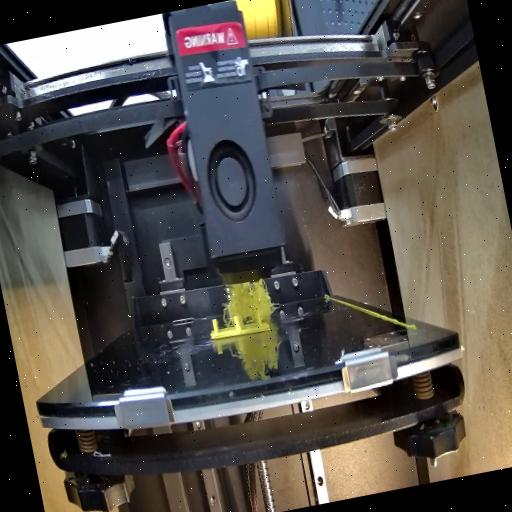spaghetti: (218, 276, 280, 328)
